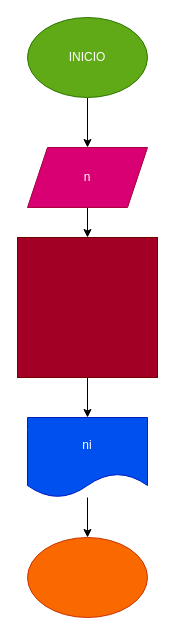
The diagram is 175 pixels wide and 635 high, and some of its shapes have lost their labels. Each missing label, with the centre of its shape:
"d1 = n%10*1000 pe = n//10 d2 = pe%10*100 pe = pe//10 d3 = pe%10*10 d4 = pe//10" belongs at point (87, 307).
"FIN" belongs at point (87, 577).
